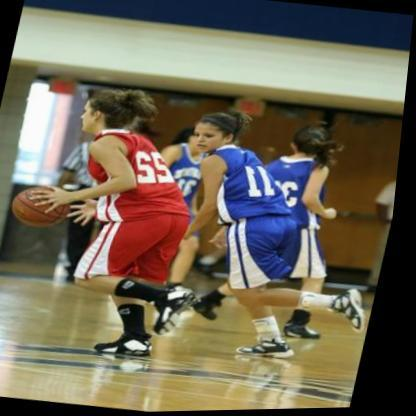basketball: (12, 182, 81, 228)
